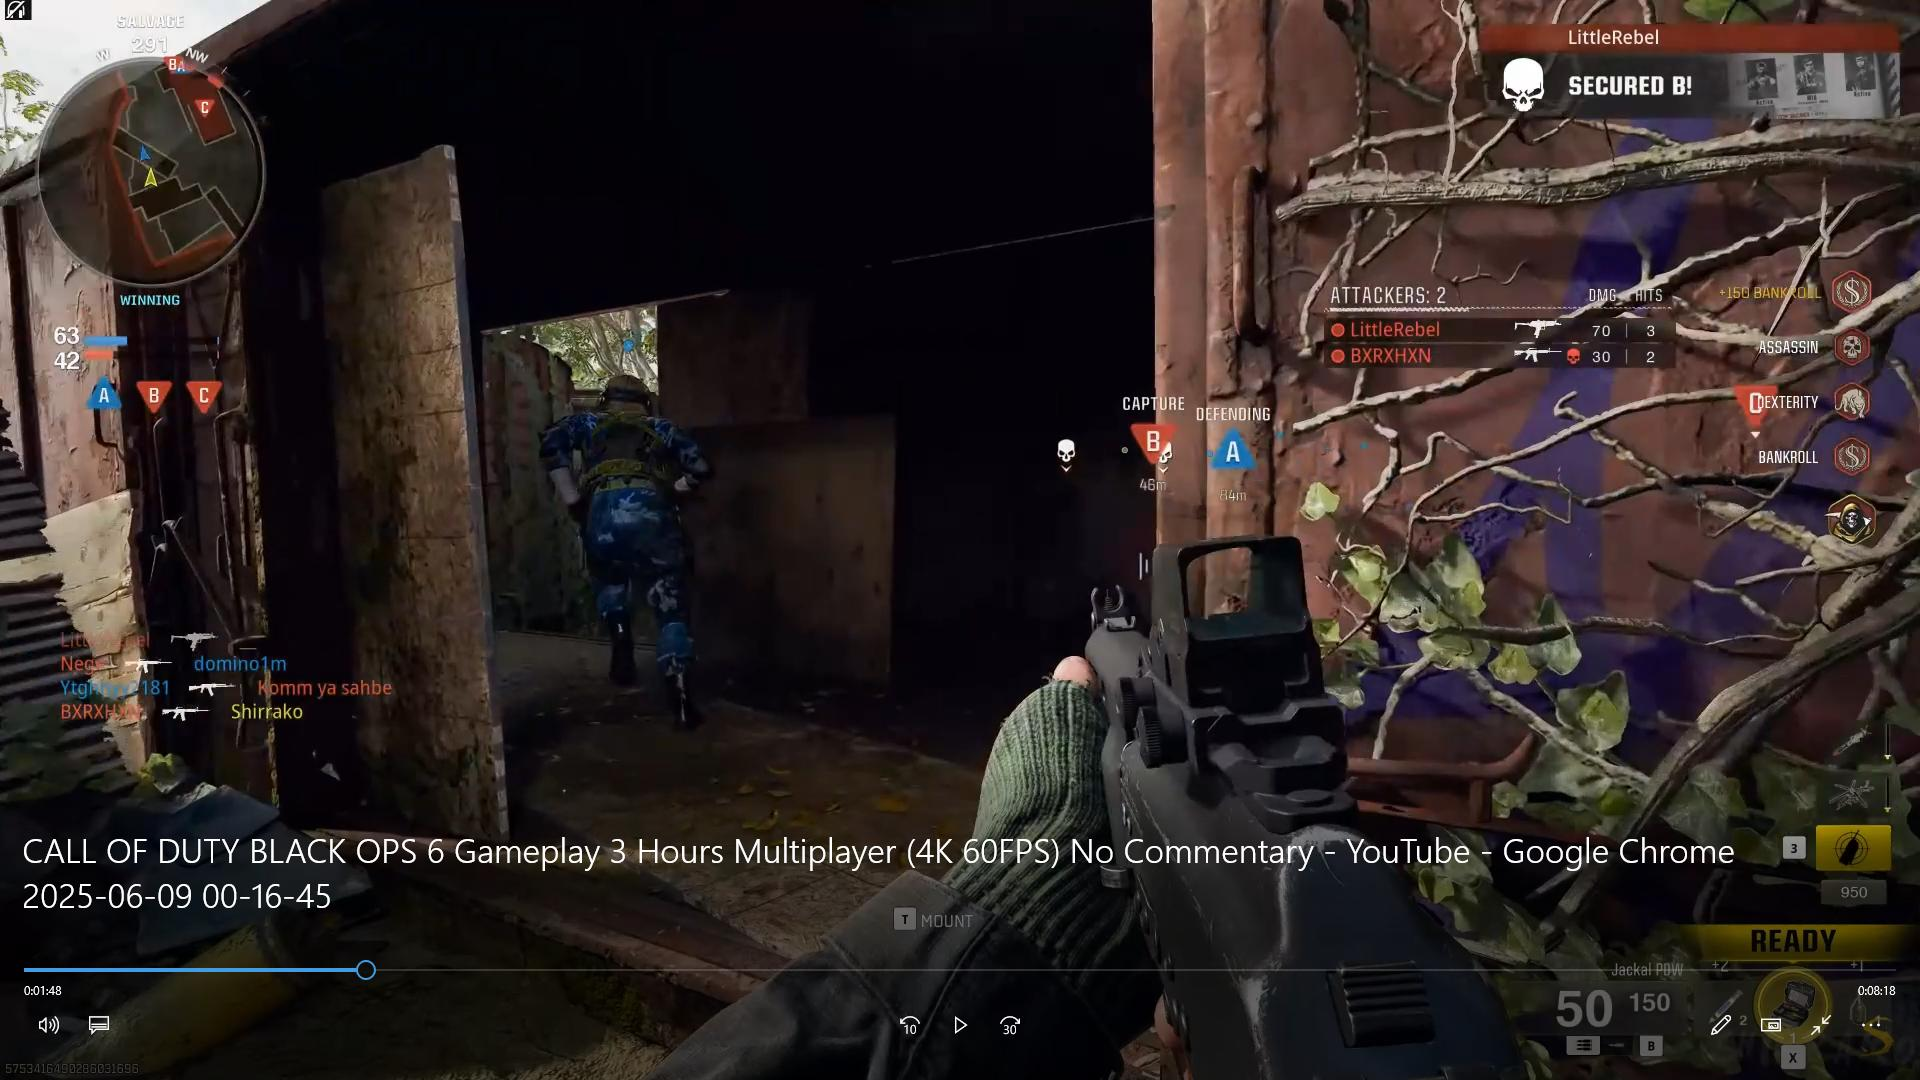Enemy: (534, 372, 723, 725)
